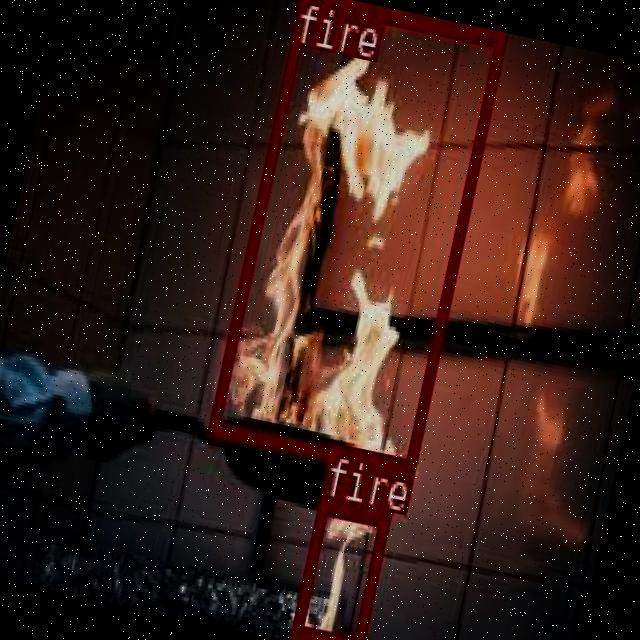fire: (205, 0, 505, 477), (289, 496, 388, 640)
